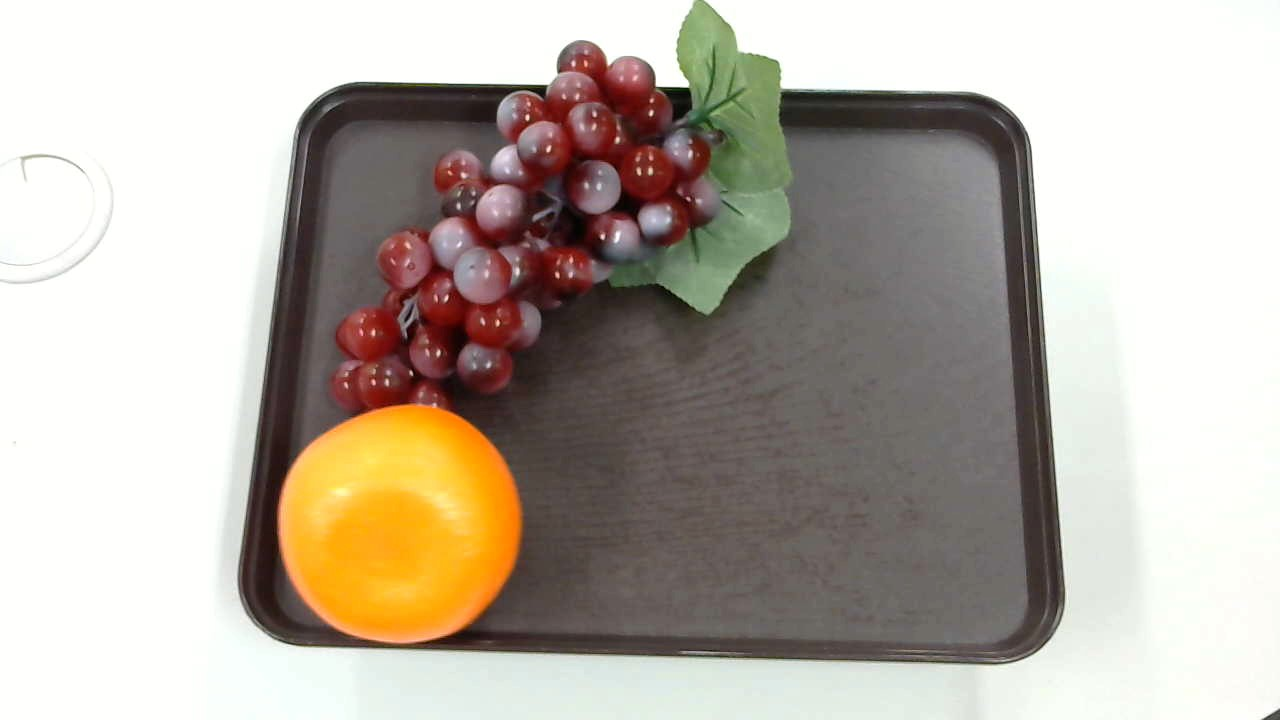grape: (322, 1, 803, 434)
orange: (276, 403, 530, 651)
